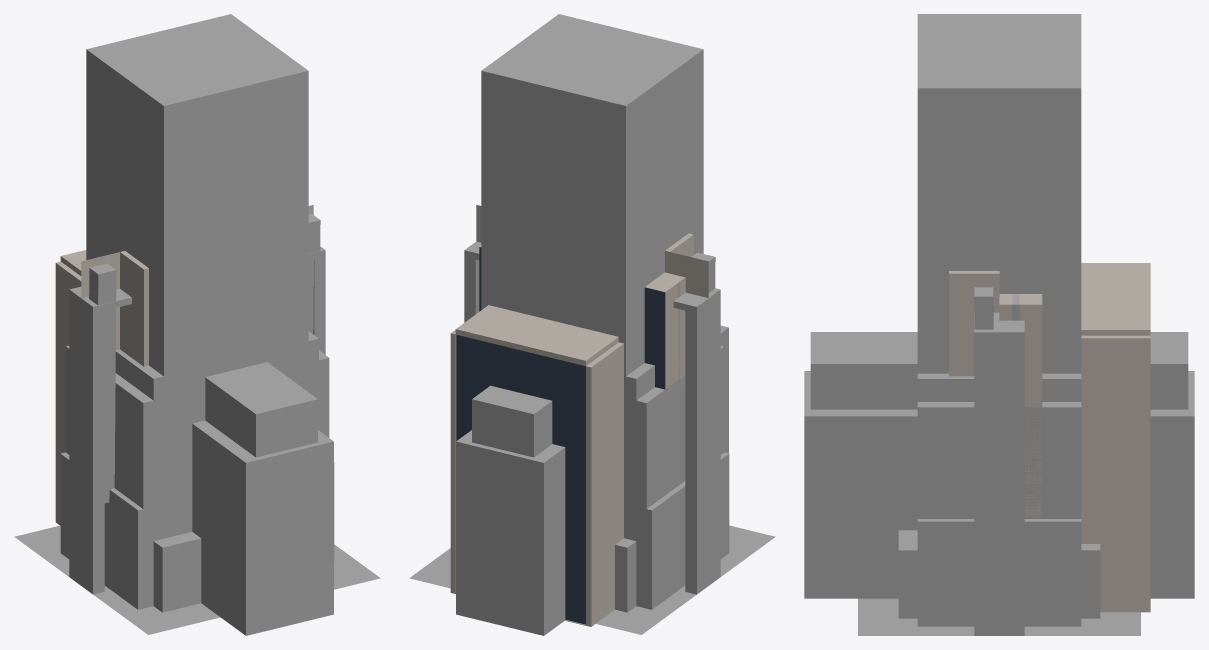
Rendered from workshop.glb.
3 views of the same model, side by side, from view 1: azimuth 30°, elevation 25°; view 2: azimuth 150°, elevation 25°; view 3: azimuth 270°, elevation 25° (orthographic). The views are drawn at different scales.
Parts seen in each view (by area): view 1: Isl_kiln, Solid_workbench, Door_frame_workshop, Isl_hanging_dolls, Isl_drying_rack, Solid_drying_rack, Mod_skylight_workshop, Isl_workbench_double, Solid_kiln, Win_industrial_curtain, Mod_fireplace_workshop, Exit_workshop_p0 (+1 smaller); view 2: Isl_kiln, Solid_workbench, Exit_workshop_p0, Door_frame_workshop, Exit_workshop_p1, Isl_drying_rack, Isl_workbench_double, Mod_skylight_workshop, Solid_drying_rack, Solid_kiln, Isl_hanging_dolls, Win_industrial (+4 smaller); view 3: Isl_kiln, Solid_workbench, Exit_workshop_p0, Door_frame_workshop, Isl_drying_rack, Isl_workbench_double, Solid_drying_rack, Mod_skylight_workshop, Solid_kiln, Win_industrial, Mod_fireplace_workshop, Isl_hanging_dolls (+1 smaller).
Part boxes in pixels (bbox=[...]): Isl_kiln: bbox=[86, 14, 308, 398]; Solid_workbench: bbox=[192, 420, 333, 635]; Door_frame_workshop: bbox=[69, 246, 325, 594]; Isl_hanging_dolls: bbox=[115, 331, 318, 540]; Isl_drying_rack: bbox=[65, 345, 329, 608]; Solid_drying_rack: bbox=[205, 362, 317, 457]; Mod_skylight_workshop: bbox=[14, 525, 380, 634]; Isl_workbench_double: bbox=[60, 452, 334, 609]; Solid_kiln: bbox=[117, 26, 276, 93]; Win_industrial_curtain: bbox=[89, 213, 320, 503]; Mod_fireplace_workshop: bbox=[81, 205, 313, 366]; Exit_workshop_p0: bbox=[55, 208, 312, 525]; Isl_kiln: bbox=[481, 14, 703, 415]; Solid_workbench: bbox=[456, 325, 728, 635]; Exit_workshop_p0: bbox=[450, 208, 708, 626]; Door_frame_workshop: bbox=[464, 241, 720, 594]; Exit_workshop_p1: bbox=[456, 334, 585, 624]; Isl_drying_rack: bbox=[624, 345, 724, 608]; Isl_workbench_double: bbox=[636, 452, 729, 609]; Mod_skylight_workshop: bbox=[409, 525, 775, 634]; Solid_drying_rack: bbox=[472, 385, 552, 457]; Solid_kiln: bbox=[516, 26, 672, 93]; Isl_hanging_dolls: bbox=[624, 363, 654, 540]; Win_industrial: bbox=[476, 208, 708, 402]; Isl_kiln: bbox=[917, 14, 1081, 373]; Solid_workbench: bbox=[804, 371, 1194, 598]; Exit_workshop_p0: bbox=[1081, 263, 1150, 612]; Door_frame_workshop: bbox=[974, 312, 1024, 635]; Isl_drying_rack: bbox=[917, 402, 1081, 518]; Isl_workbench_double: bbox=[917, 519, 1081, 626]; Solid_drying_rack: bbox=[810, 332, 1188, 409]; Mod_skylight_workshop: bbox=[858, 530, 1140, 635]; Solid_kiln: bbox=[937, 25, 1061, 77]; Win_industrial: bbox=[999, 294, 1042, 518]; Mod_fireplace_workshop: bbox=[949, 271, 999, 376]; Isl_hanging_dolls: bbox=[917, 373, 1081, 401].
Bounding box in the file's own units: 2.25 × 4.9 × 3.1.
